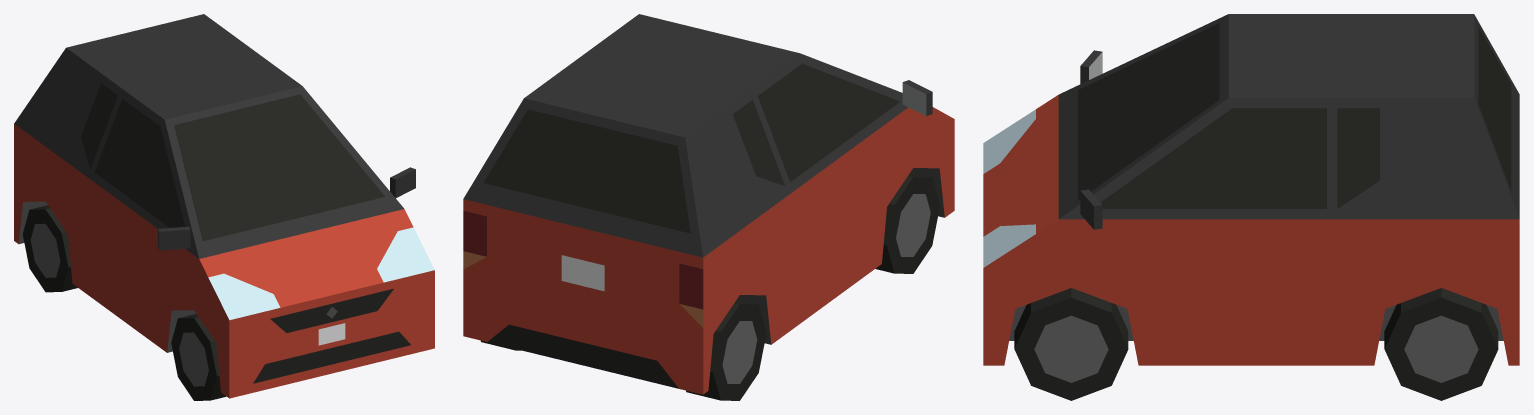
File: Veh_Microcar_Red.glb
The picture shows the model from 3 angles, left to right: view 1: azimuth 30°, elevation 25°; view 2: azimuth 150°, elevation 25°; view 3: azimuth 270°, elevation 25°; orthographic projection. The views are drawn at different scales.
Parts seen in each view (by area): view 1: Microcar_Red, Wheel_FR, Wheel_RR; view 2: Microcar_Red, Wheel_RR, Wheel_FR; view 3: Microcar_Red, Wheel_FL, Wheel_RL.
Part boxes in pixels (left/top/right/bottom): Microcar_Red: left=14, top=14, right=434, bottom=398; Wheel_FR: left=171, top=314, right=226, bottom=400; Wheel_RR: left=22, top=205, right=77, bottom=292; Microcar_Red: left=463, top=14, right=954, bottom=394; Wheel_RR: left=686, top=299, right=766, bottom=400; Wheel_FR: left=875, top=172, right=939, bottom=273; Microcar_Red: left=983, top=14, right=1519, bottom=365; Wheel_FL: left=1014, top=288, right=1128, bottom=400; Wheel_RL: left=1384, top=288, right=1498, bottom=400.
Bounding box in the file's own units: 0.9194 × 0.7766 × 1.34.
Materials: 1 (1 with a texture image).
